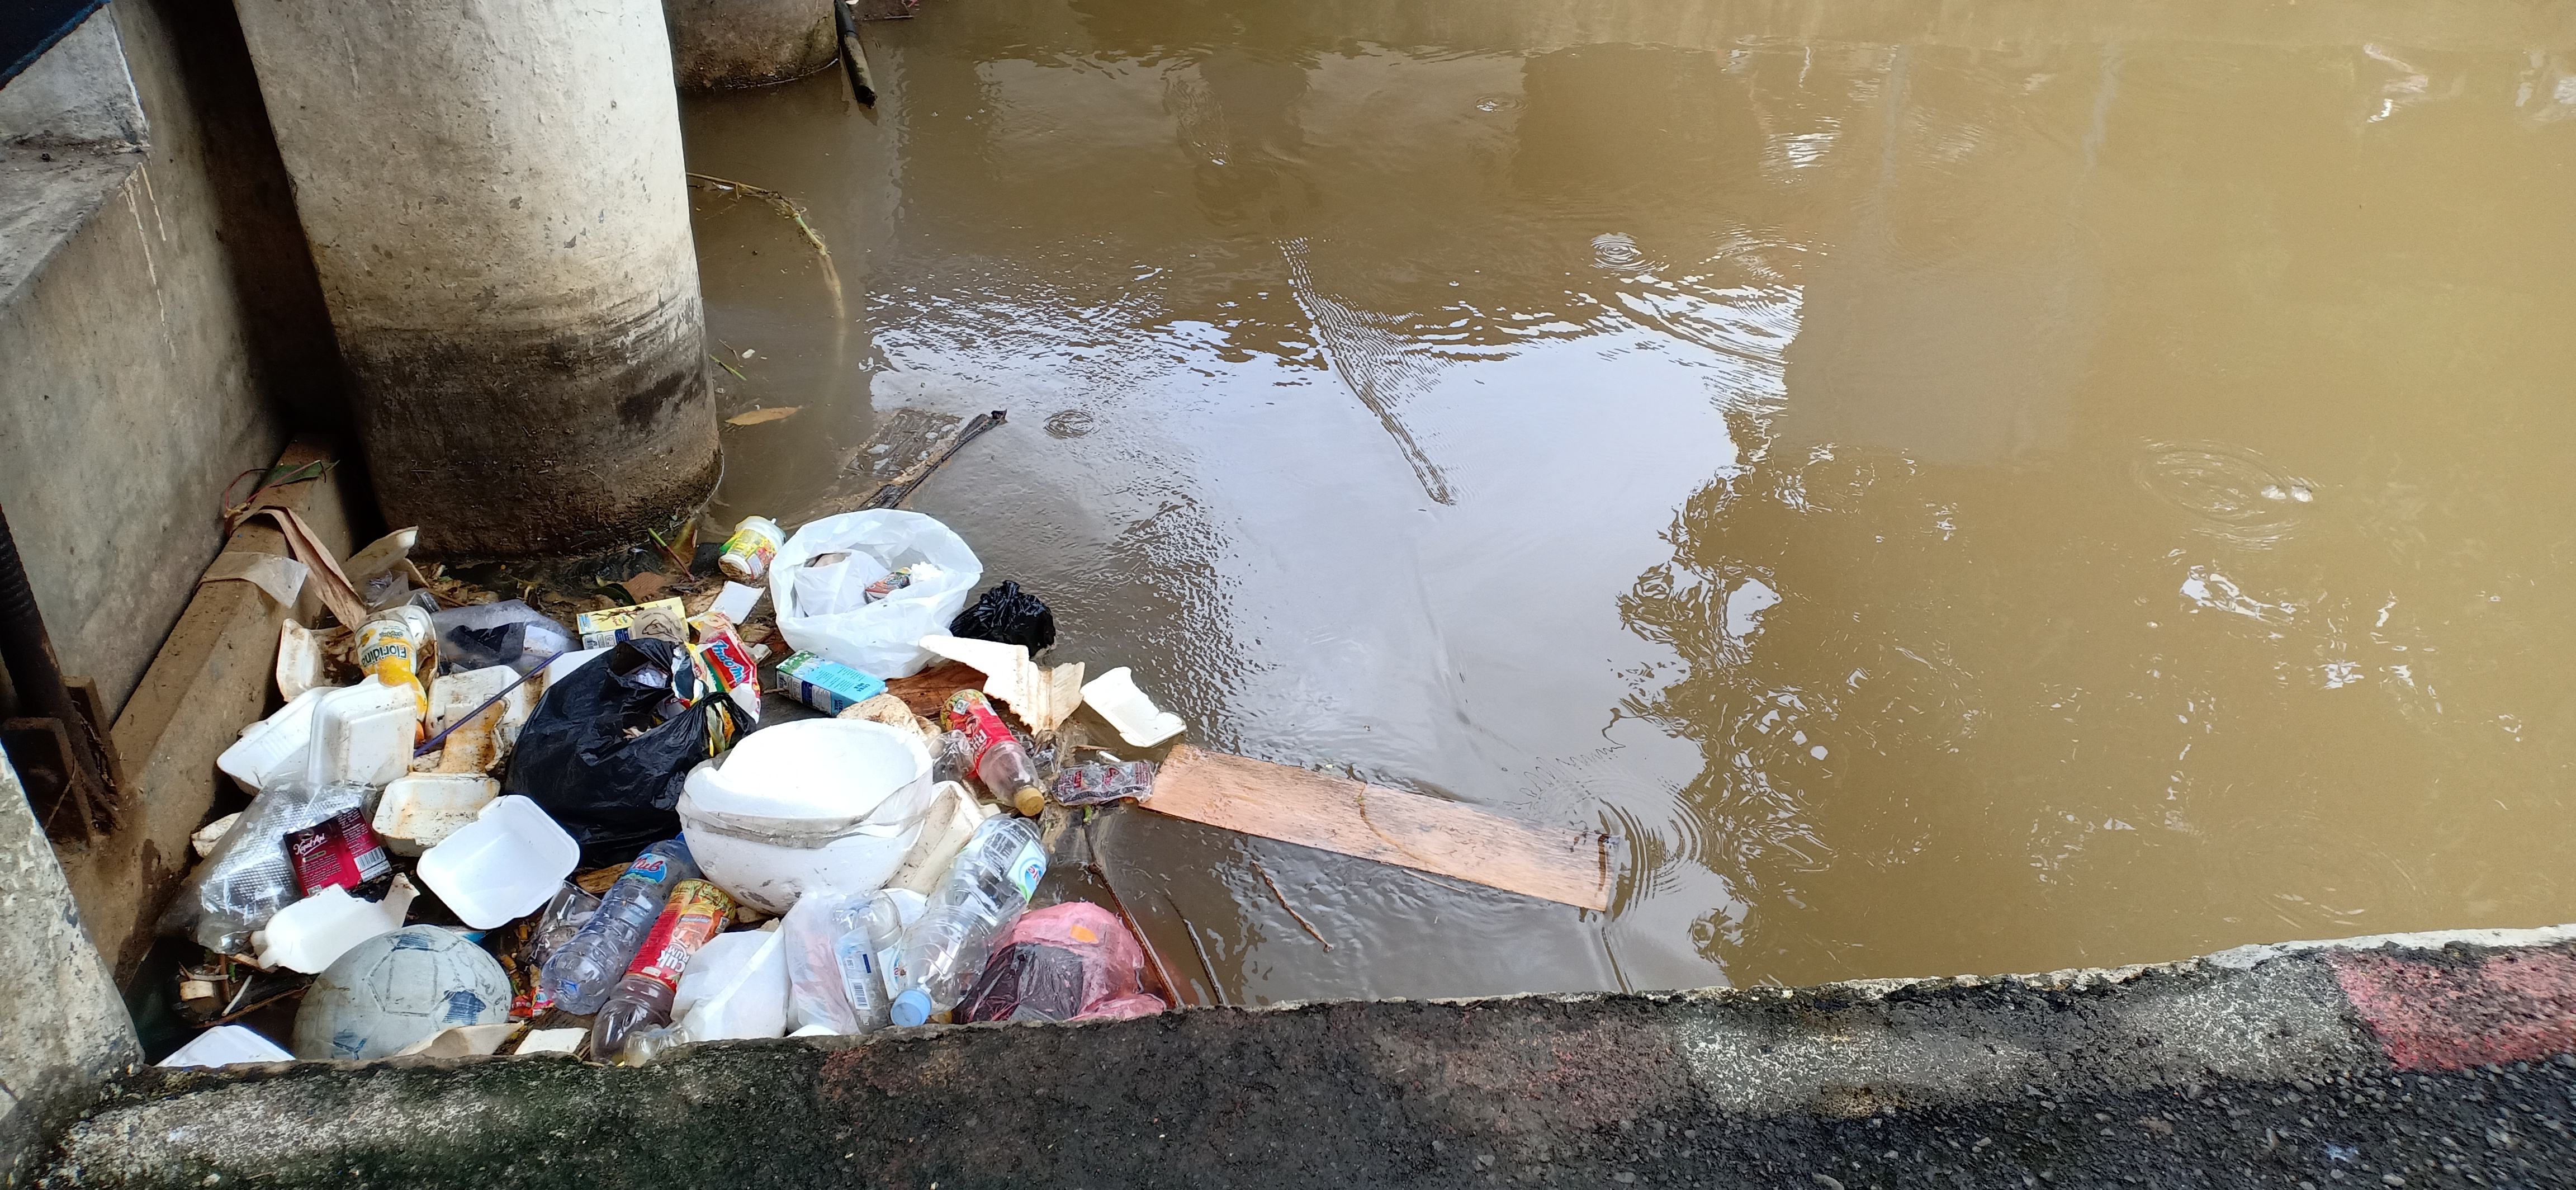Plastic Bottle: (889, 814, 1046, 1026), (539, 832, 700, 1016), (590, 879, 734, 1063), (940, 689, 1045, 815), (830, 891, 902, 1032), (353, 613, 426, 746), (623, 1024, 692, 1067), (927, 731, 974, 782)
